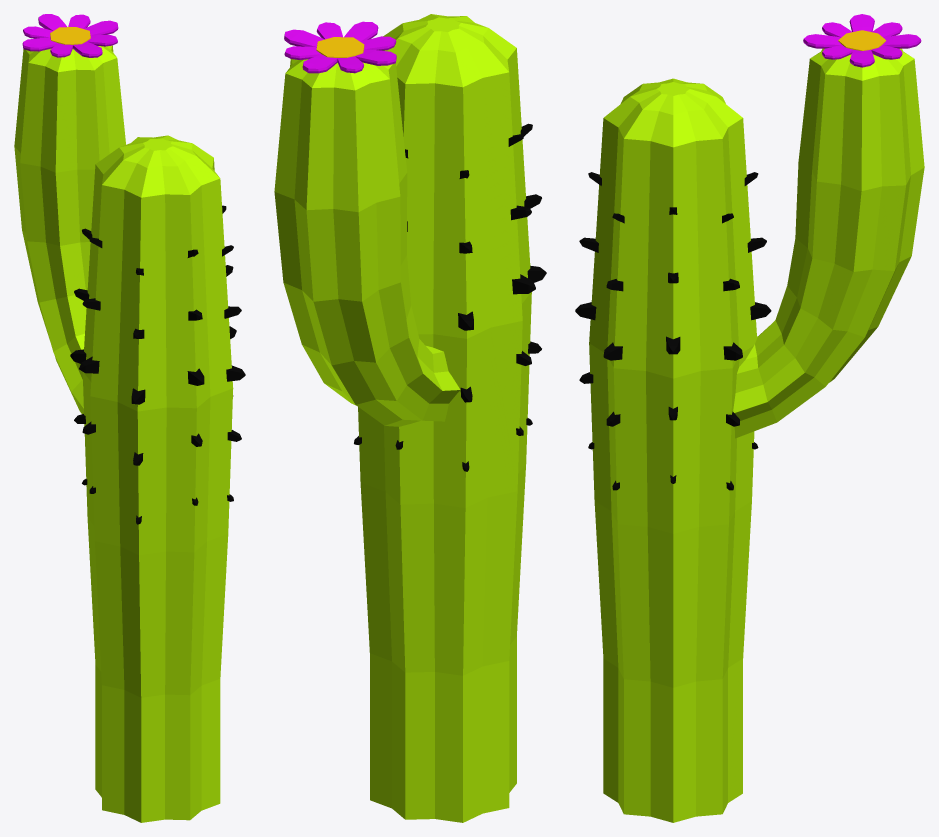
File: Cardon03_01Brazo_Flor_Magenta.fbx
3 views of the same model, side by side, from view 1: azimuth 30°, elevation 25°; view 2: azimuth 150°, elevation 25°; view 3: azimuth 270°, elevation 25° (orthographic). The views are drawn at different scales.
Visible parts, largest first — view 1: Cactus_Cuerpo, Espinas, Flor_Magenta; view 2: Cactus_Cuerpo, Flor_Magenta, Espinas; view 3: Cactus_Cuerpo, Flor_Magenta, Espinas.
Part boxes in pixels (<box>): Cactus_Cuerpo: <box>14,45,233,822</box>; Espinas: <box>70,205,245,524</box>; Flor_Magenta: <box>22,14,118,57</box>; Cactus_Cuerpo: <box>274,14,531,822</box>; Flor_Magenta: <box>284,21,396,73</box>; Espinas: <box>354,123,546,471</box>; Cactus_Cuerpo: <box>589,48,924,822</box>; Flor_Magenta: <box>803,14,921,67</box>; Espinas: <box>575,172,771,490</box>.
Size of the model in its own units: 53.18 by 226 by 94.85.
